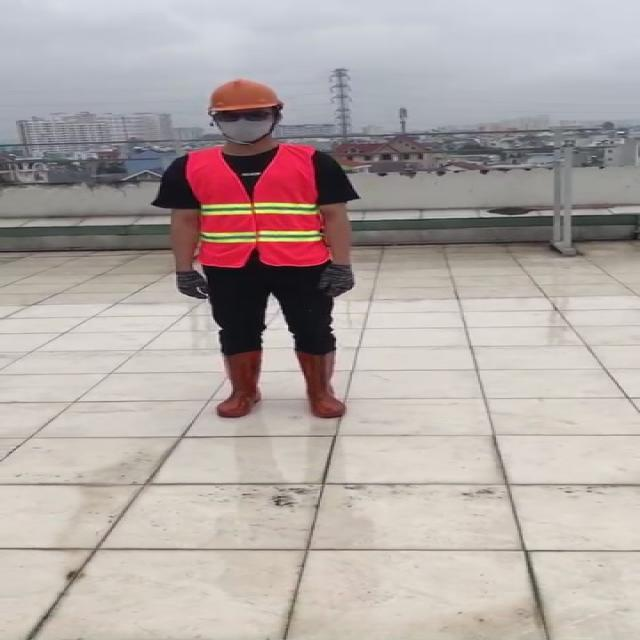boots: (296, 350, 351, 416), (217, 351, 265, 417)
gloves: (314, 263, 356, 297), (174, 268, 206, 300)
helmet: (200, 76, 288, 114)
vest: (187, 147, 329, 266)
